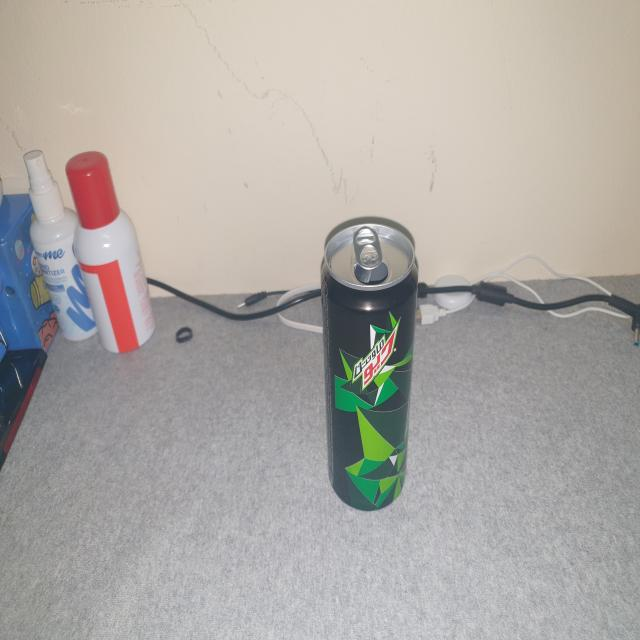non-organic waste: (316, 195, 424, 515)
